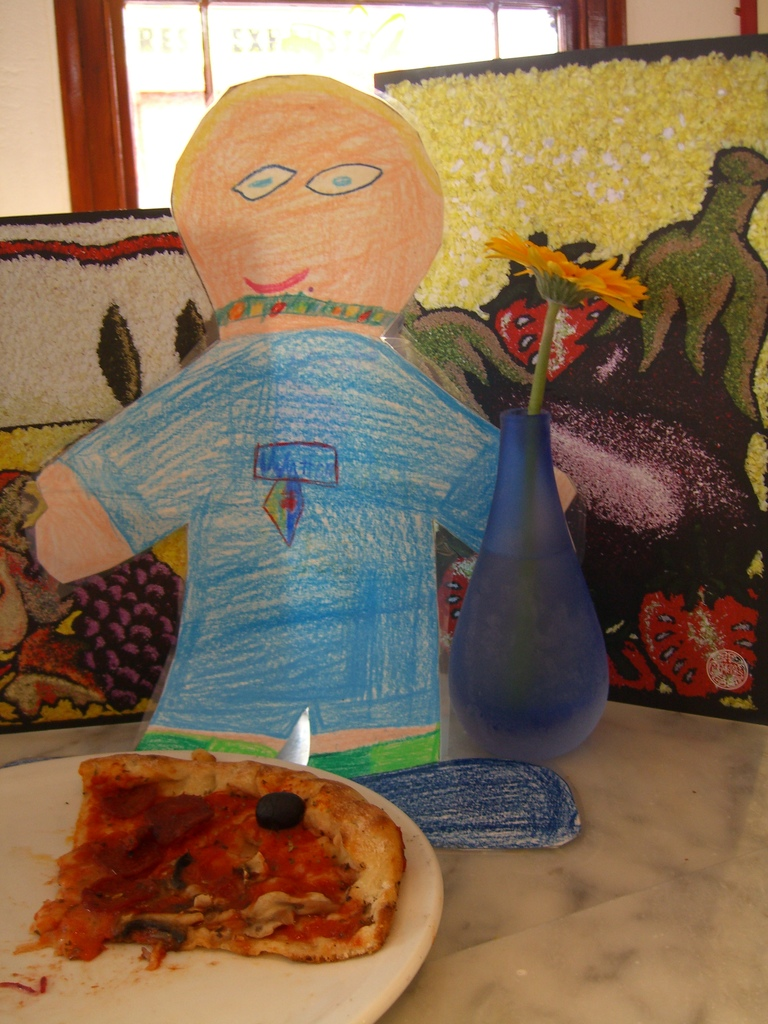Pizza: (26, 751, 406, 956)
